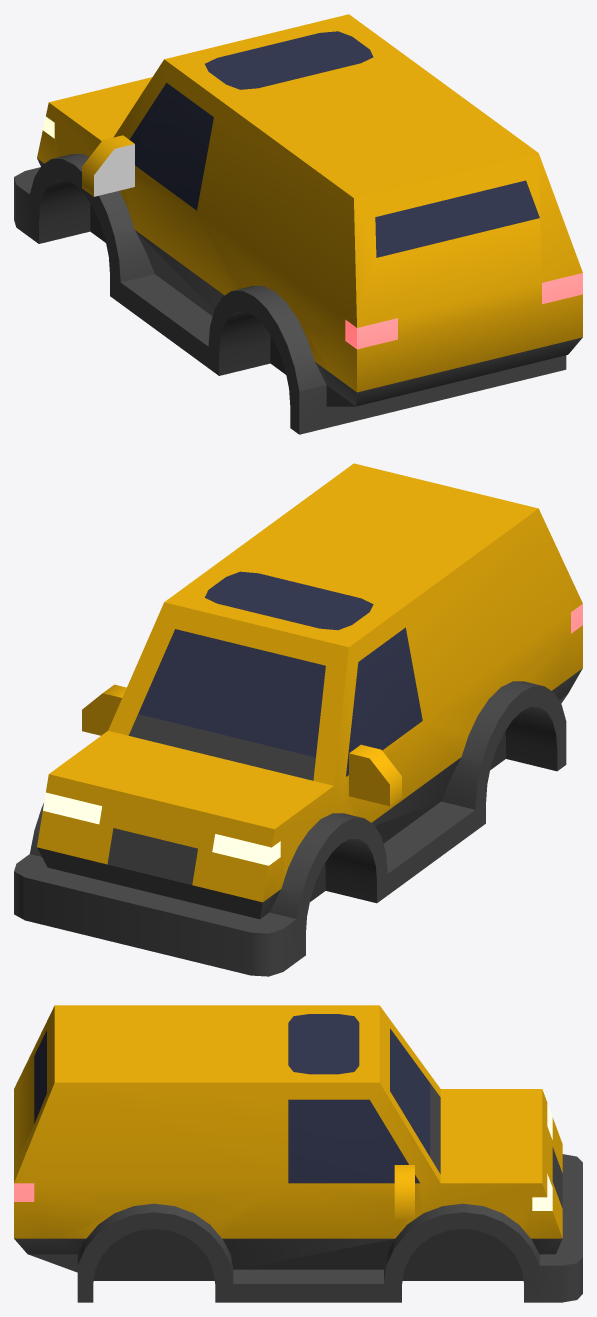
Rendered from SM_SUV_Luxury_Body.fbx.
The picture shows the model from 3 angles, top to bottom: view 1: azimuth 30°, elevation 25°; view 2: azimuth 150°, elevation 25°; view 3: azimuth 270°, elevation 25°; orthographic projection. The views are drawn at different scales.
Parts seen in each view (by area): view 1: SM_SUV_Luxury_Body; view 2: SM_SUV_Luxury_Body; view 3: SM_SUV_Luxury_Body.
Part boxes in pixels (box(x1,y1,x2,y2)): SM_SUV_Luxury_Body: box(14, 14, 582, 434); SM_SUV_Luxury_Body: box(14, 463, 582, 976); SM_SUV_Luxury_Body: box(14, 1005, 582, 1302).
Size of the model in its own units: 1.5 by 1.1 by 2.8.
